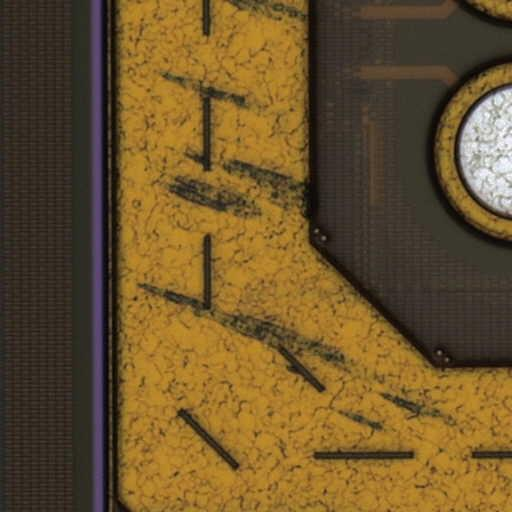SCRATCH: (124, 1, 468, 454)
